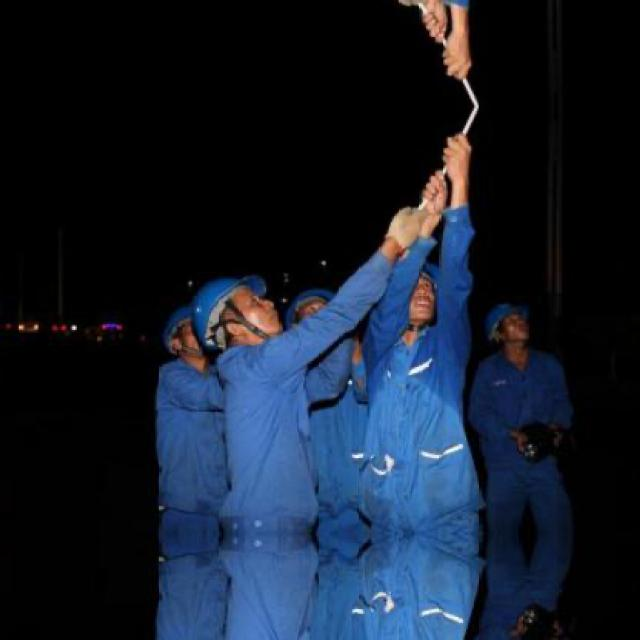helmet: (186, 272, 286, 348), (484, 301, 534, 362), (162, 307, 212, 362), (292, 286, 338, 340)
